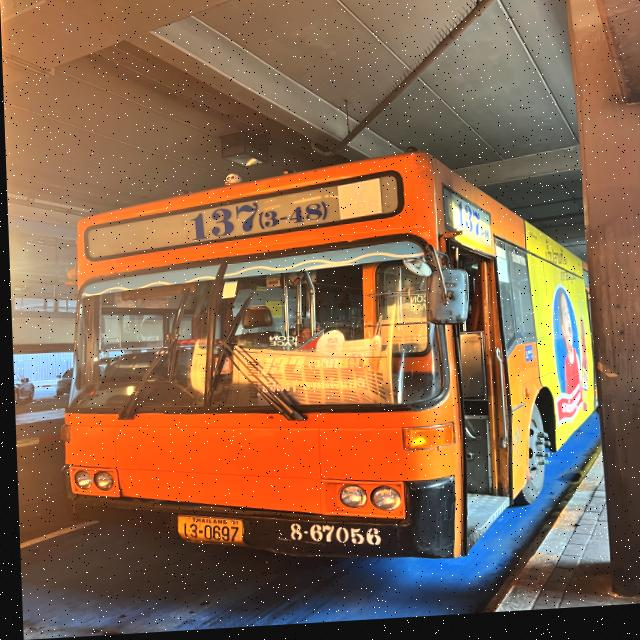BMTA-bus: (49, 149, 599, 584)
Bus-Line-Number: (184, 199, 327, 245)
Destination-Sign-Normal: (252, 351, 393, 415)
